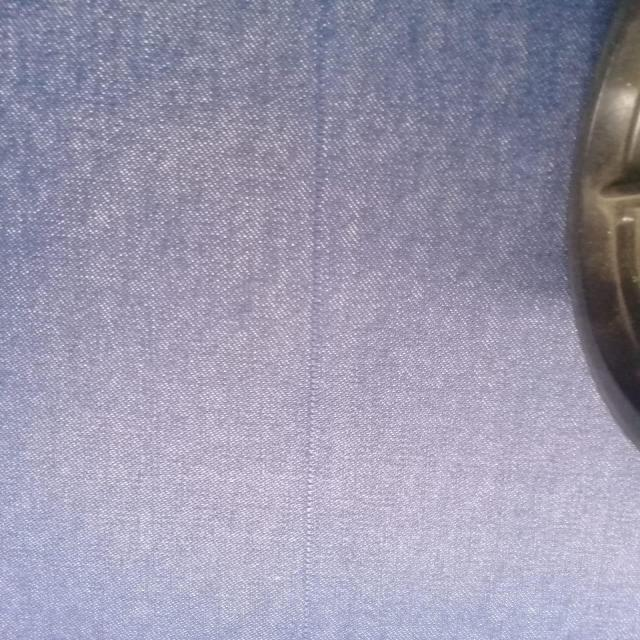Line: (300, 0, 325, 640)
